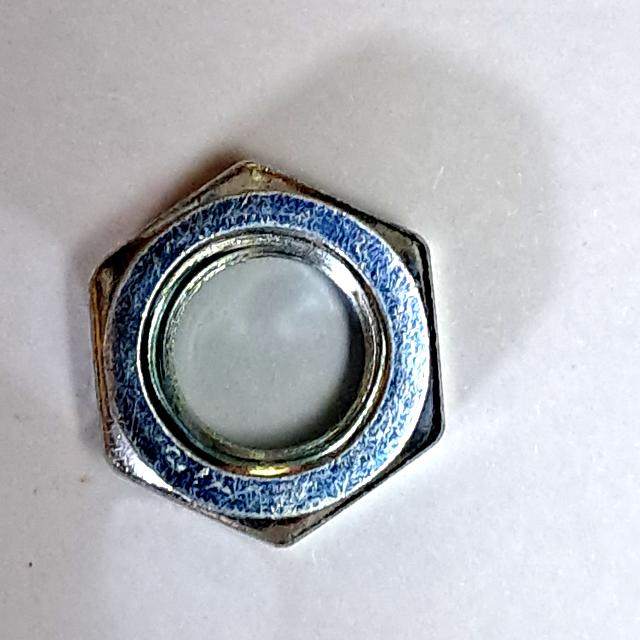Excellent: (66, 137, 469, 566)
